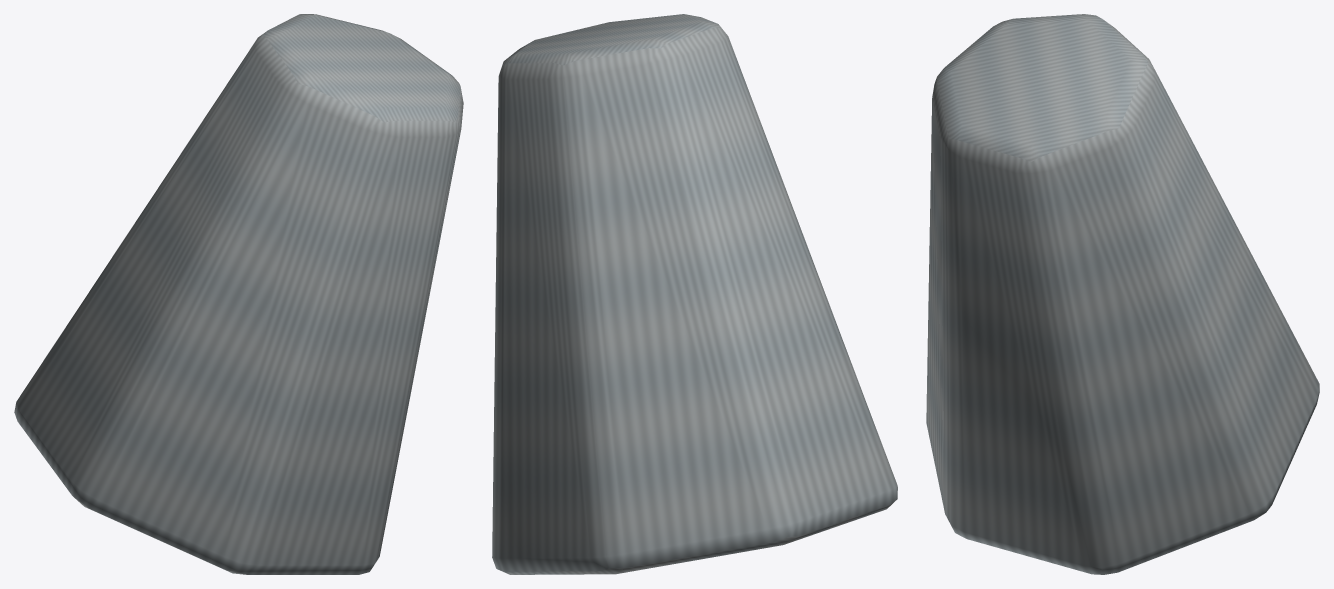
File: BrushedSteelCone.glb
The picture shows the model from 3 angles, left to right: view 1: azimuth 30°, elevation 25°; view 2: azimuth 150°, elevation 25°; view 3: azimuth 270°, elevation 25°; orthographic projection. The views are drawn at different scales.
Parts seen in each view (by area): view 1: Cone; view 2: Cone; view 3: Cone.
Boxes of the visible parts, bbox=[...] form: Cone: bbox=[14, 14, 463, 574]; Cone: bbox=[492, 14, 897, 574]; Cone: bbox=[926, 14, 1319, 574].
Size of the model in its own units: 1.26 by 1.63 by 1.15.
1 material, 1 textured.
